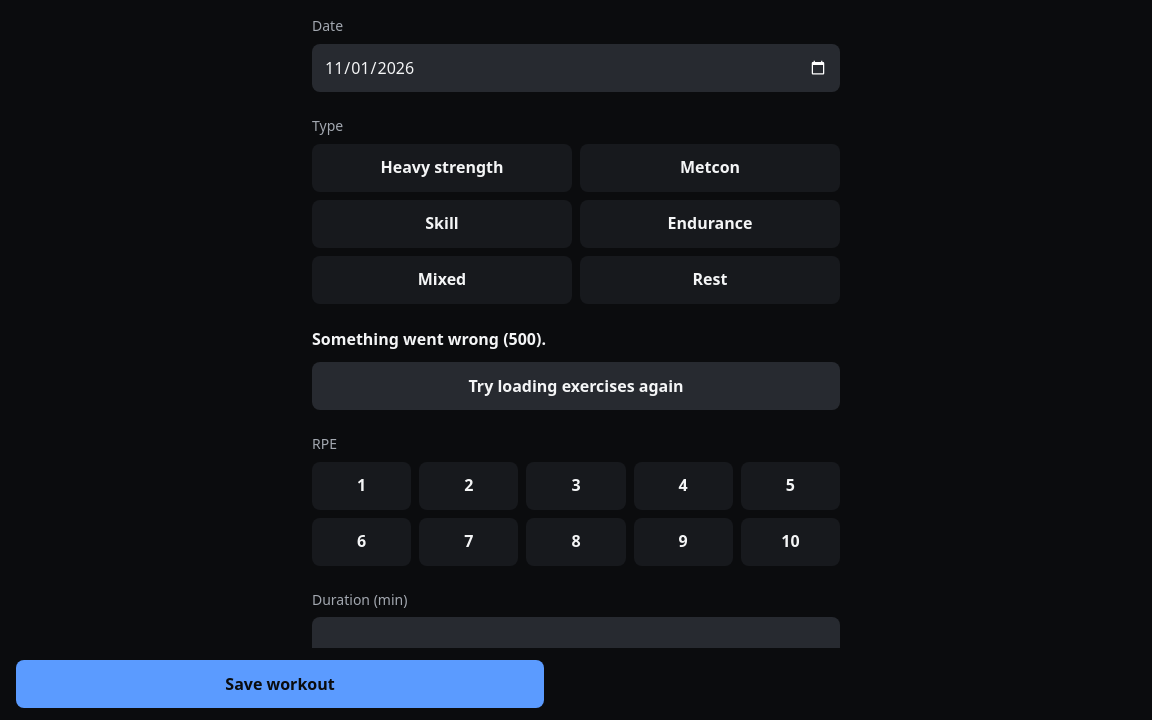
Test: when something is wrong › offers a retry when exercises fail to load
Expected: the message shows "Something went wrong (500).", [312,328,546,350]
Click the button "Try loading exercises again" at {"x": 576, "y": 386}, box [312,362,840,410]
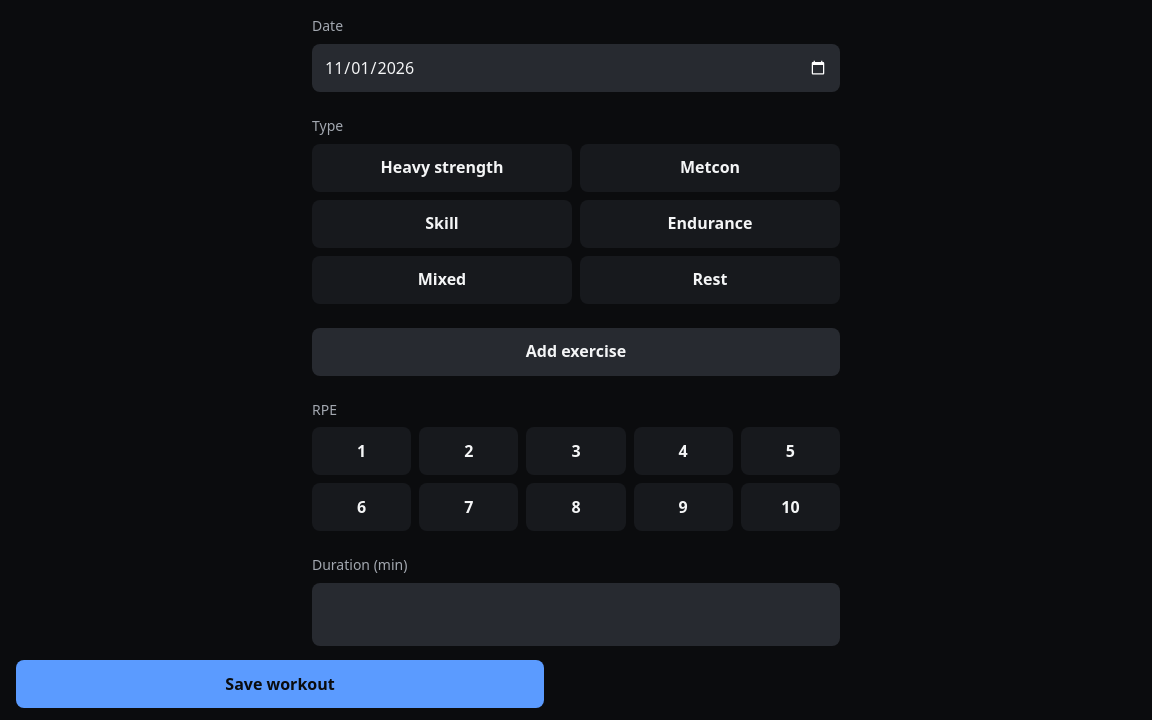
Expected: the button "Add exercise" is shown, [312,328,840,376]
